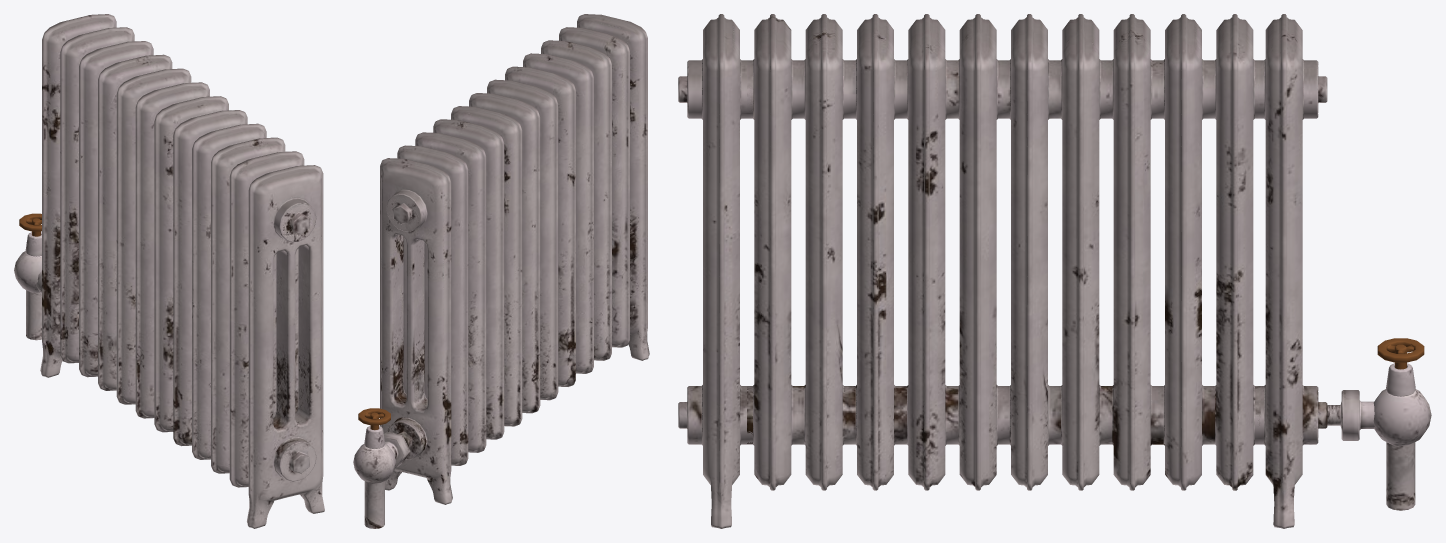
3 views of the same model, side by side, from view 1: azimuth 30°, elevation 25°; view 2: azimuth 150°, elevation 25°; view 3: azimuth 270°, elevation 25° (orthographic). The views are drawn at different scales.
Parts seen in each view (by area): view 1: Radiator; view 2: Radiator; view 3: Radiator.
Boxes of the visible parts, <box> form: Radiator: <box>14,14,324,528</box>; Radiator: <box>353,14,649,528</box>; Radiator: <box>678,14,1431,528</box>.
Size of the model in its own units: 16.45 by 72.67 by 104.
2 materials, 1 textured.
